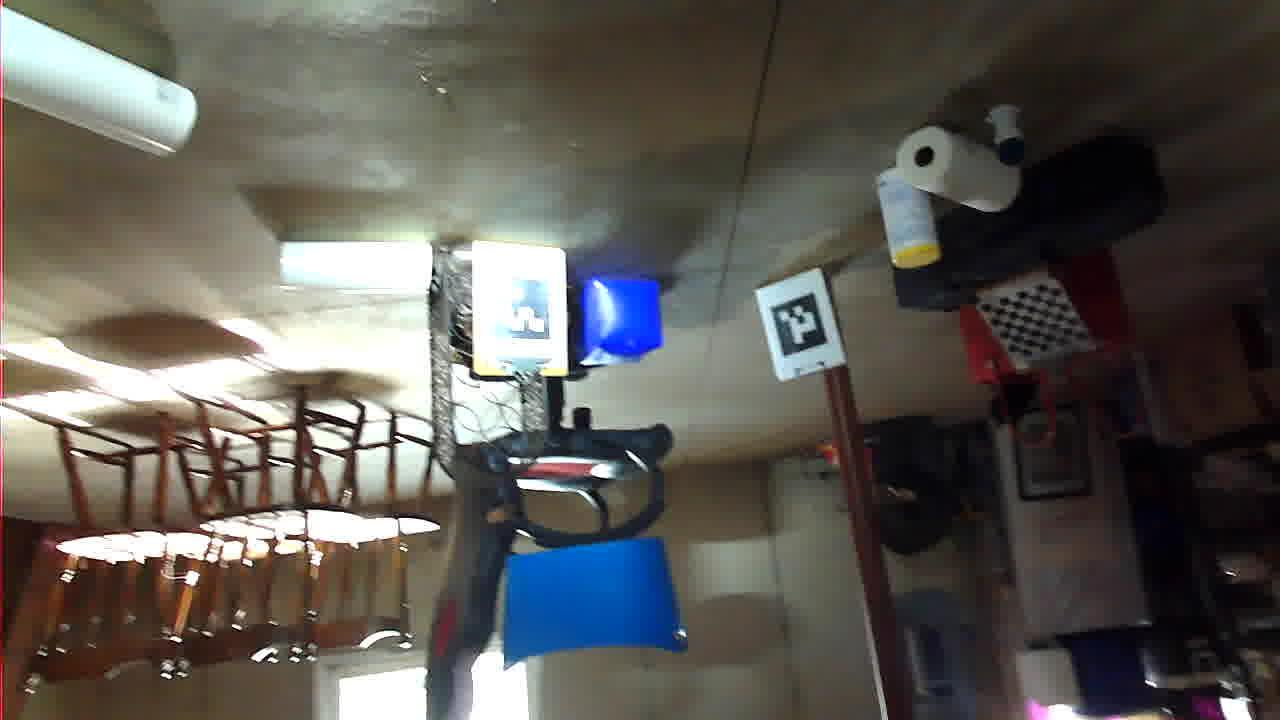coral: (1082, 563, 1278, 714), (848, 428, 999, 479)
